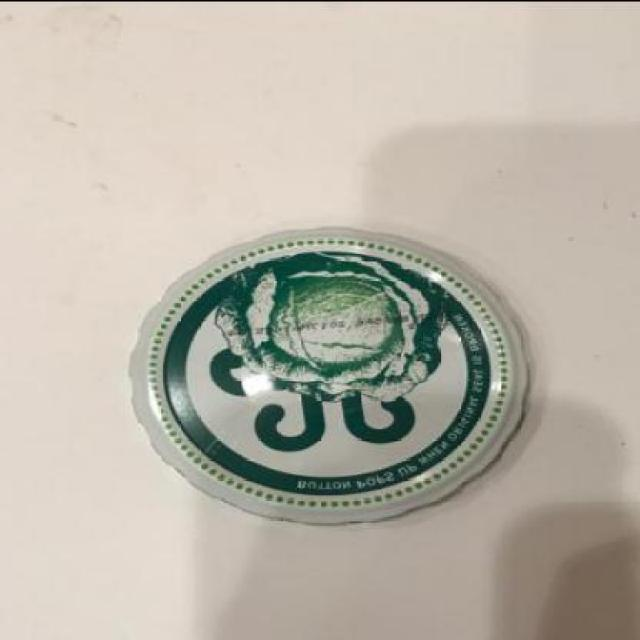METAL: (128, 222, 530, 522)
